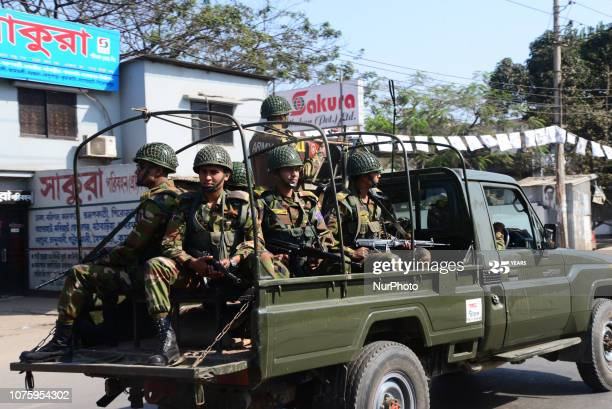army vehicle: (9, 110, 611, 408)
